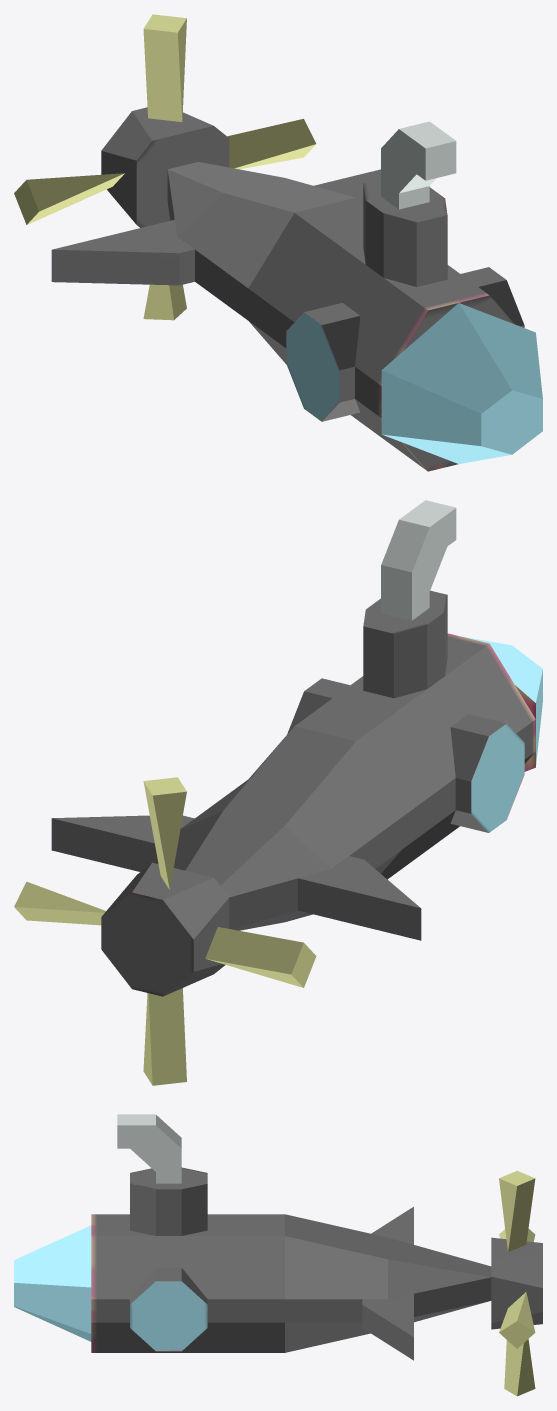
3 views of the same model, one above another, from view 1: azimuth 30°, elevation 25°; view 2: azimuth 150°, elevation 25°; view 3: azimuth 270°, elevation 25° (orthographic). The views are drawn at different scales.
Visible parts, largest first — view 1: new_sub; view 2: new_sub; view 3: new_sub.
Boxes of the visible parts, left/top/right/bottom form: new_sub: left=14, top=14, right=542, bottom=471; new_sub: left=14, top=500, right=542, bottom=1085; new_sub: left=14, top=1114, right=542, bottom=1396.
Bounding box in the file's own units: 6 × 5.75 × 10.25.
1 material, 1 textured.
